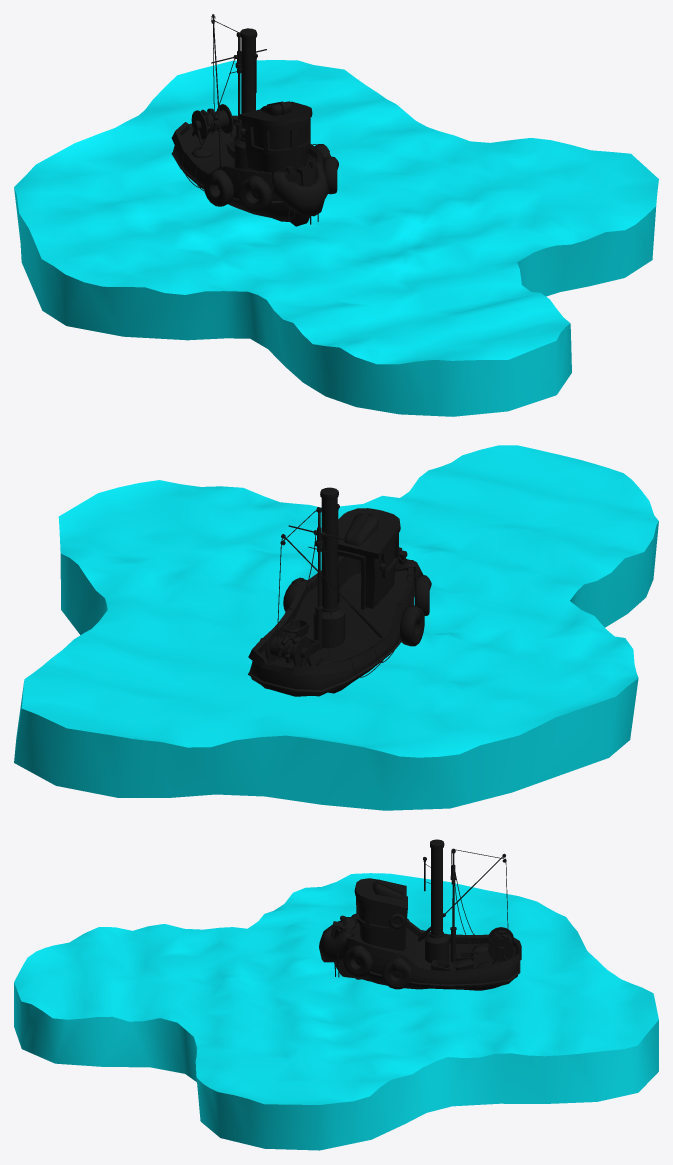
The picture shows the model from 3 angles, top to bottom: view 1: azimuth 30°, elevation 25°; view 2: azimuth 150°, elevation 25°; view 3: azimuth 270°, elevation 25°; orthographic projection. The views are drawn at different scales.
Visible parts, largest first — view 1: Water, Boat_full_LOW; view 2: Water, Boat_full_LOW; view 3: Water, Boat_full_LOW.
Part boxes in pixels (<box>): Water: <box>14,60,658,416</box>; Boat_full_LOW: <box>171,14,338,226</box>; Water: <box>14,445,658,810</box>; Boat_full_LOW: <box>248,487,431,696</box>; Water: <box>14,873,658,1150</box>; Boat_full_LOW: <box>319,839,521,990</box>.
Bounding box in the file's own units: 5.42 × 1.93 × 6.36.
